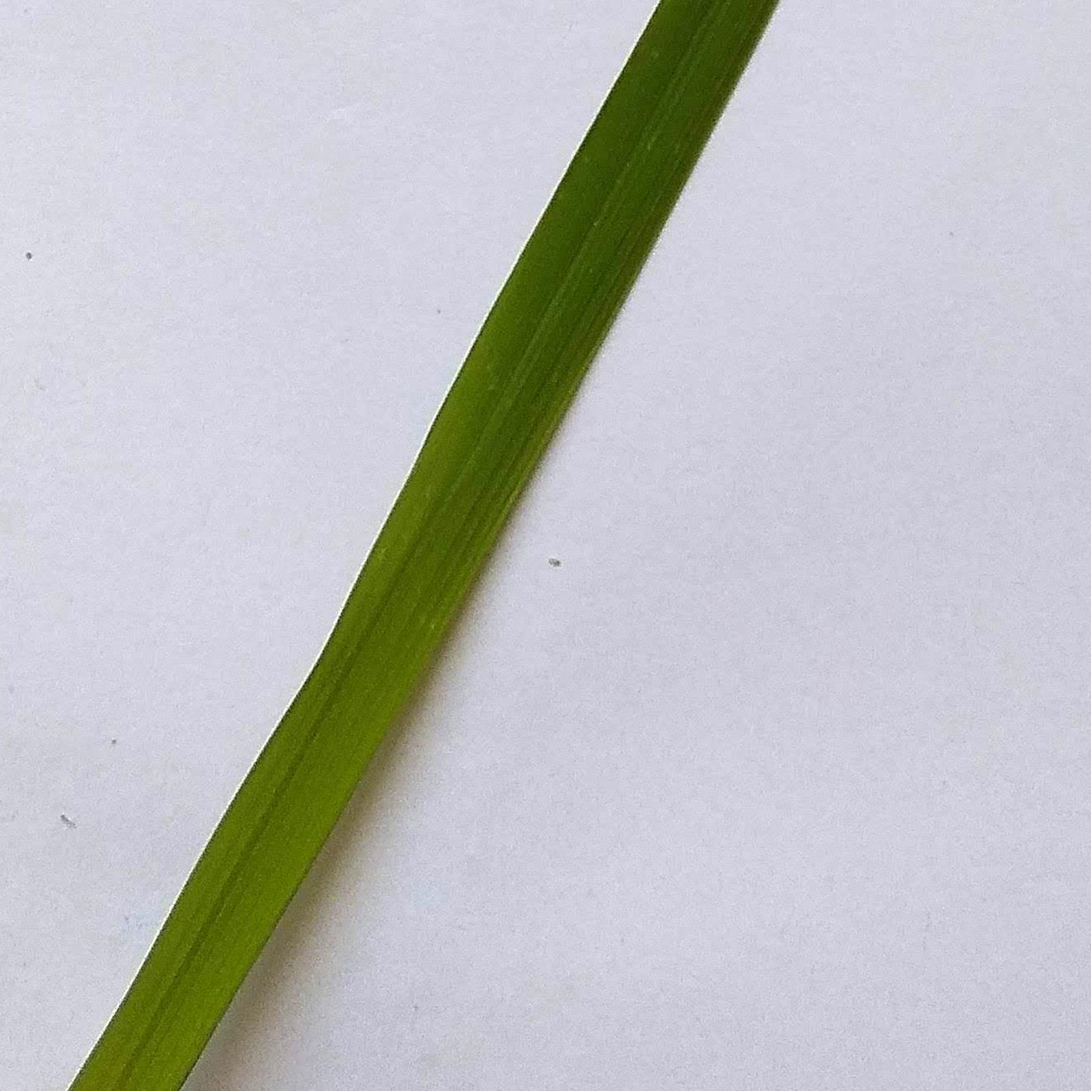Healthy: (69, 0, 777, 1090)
